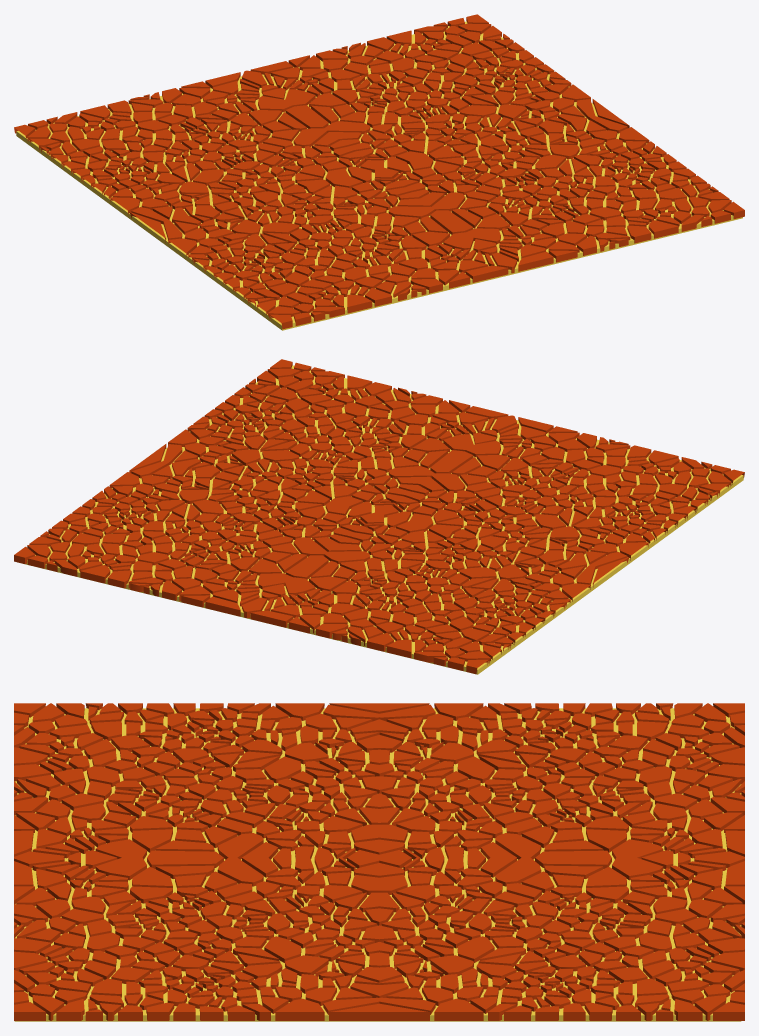
File: Lava2.fbx
The picture shows the model from 3 angles, top to bottom: view 1: azimuth 30°, elevation 25°; view 2: azimuth 150°, elevation 25°; view 3: azimuth 270°, elevation 25°; orthographic projection. The views are drawn at different scales.
Visible parts, largest first — view 1: Lava, Plane; view 2: Lava, Plane; view 3: Lava, Plane.
Boxes of the visible parts, <box> form: Lava: <box>14,14,744,329</box>; Plane: <box>16,21,742,330</box>; Lava: <box>14,359,744,673</box>; Plane: <box>17,365,743,674</box>; Lava: <box>14,703,744,1020</box>; Plane: <box>14,708,741,1021</box>.
Size of the model in its own units: 201 by 3.3 by 201.
